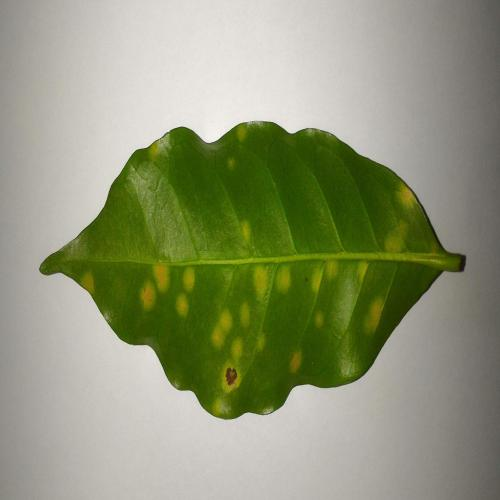phoma: (240, 129, 244, 138)
